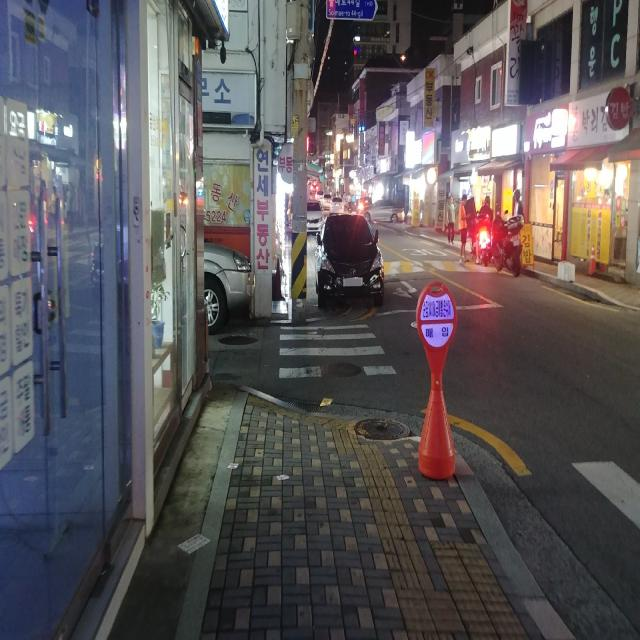횡단보도: (279, 325, 397, 379)
